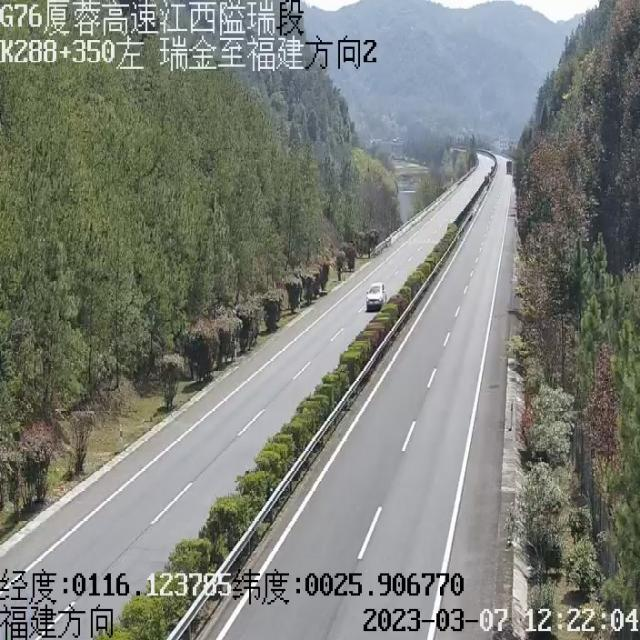point: (458, 126, 524, 188)
